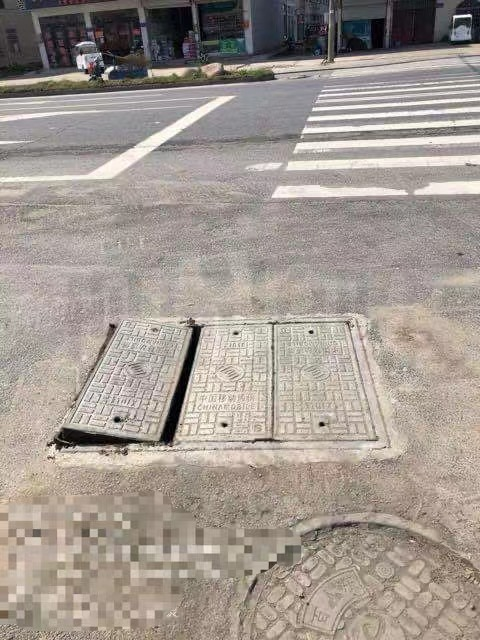well: (47, 312, 389, 457), (233, 510, 478, 639)
